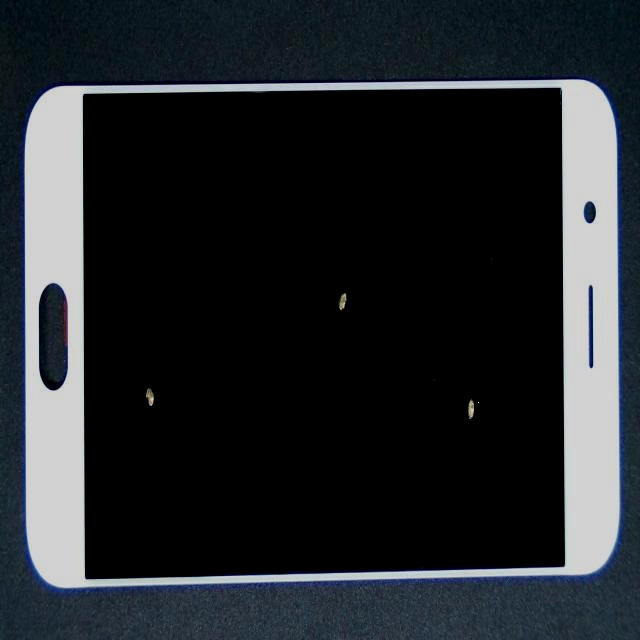stain: (232, 148, 640, 579), (174, 94, 499, 423), (109, 185, 244, 558)
